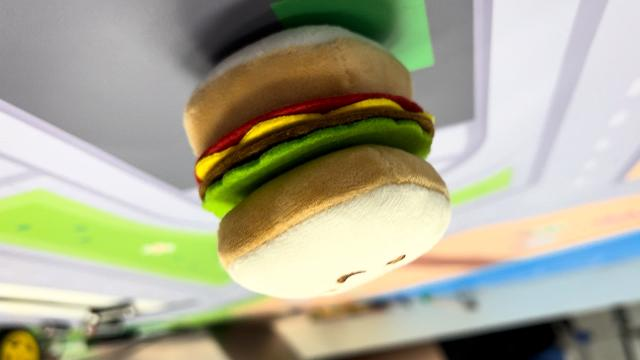sandwich: (180, 24, 454, 300)
